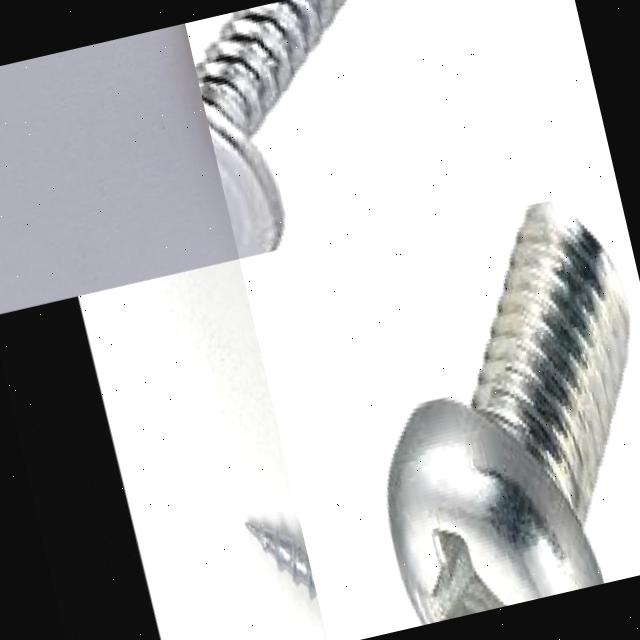Screw: (384, 197, 635, 625), (194, 0, 347, 258), (245, 523, 317, 600)
